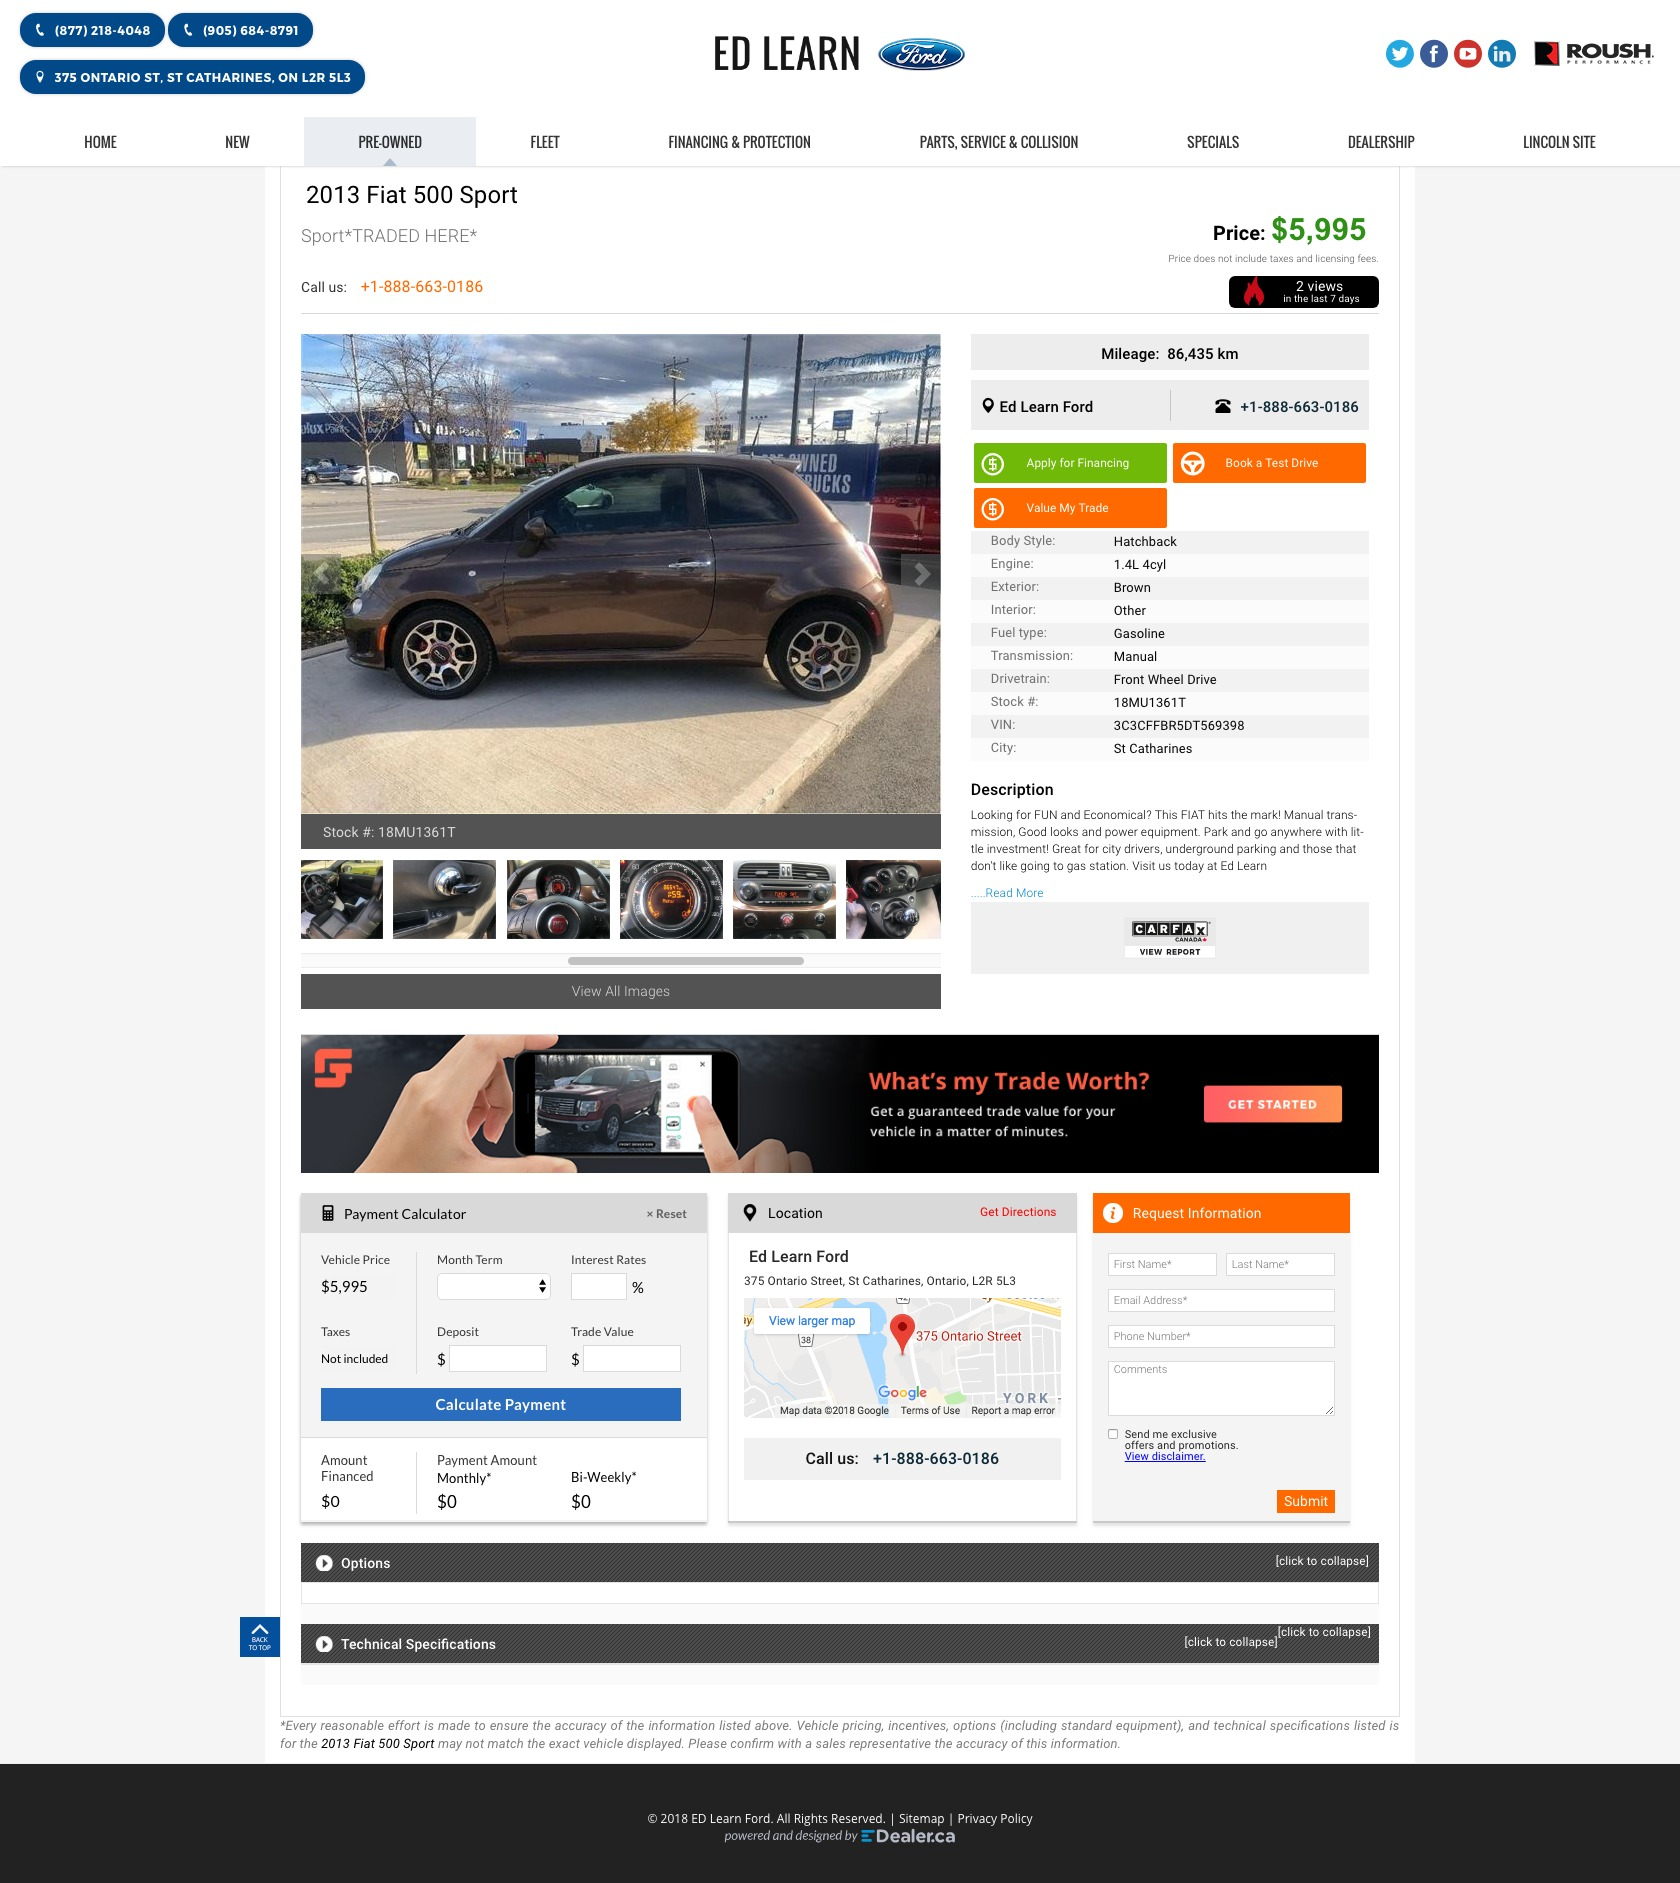car: (898, 551, 944, 597)
